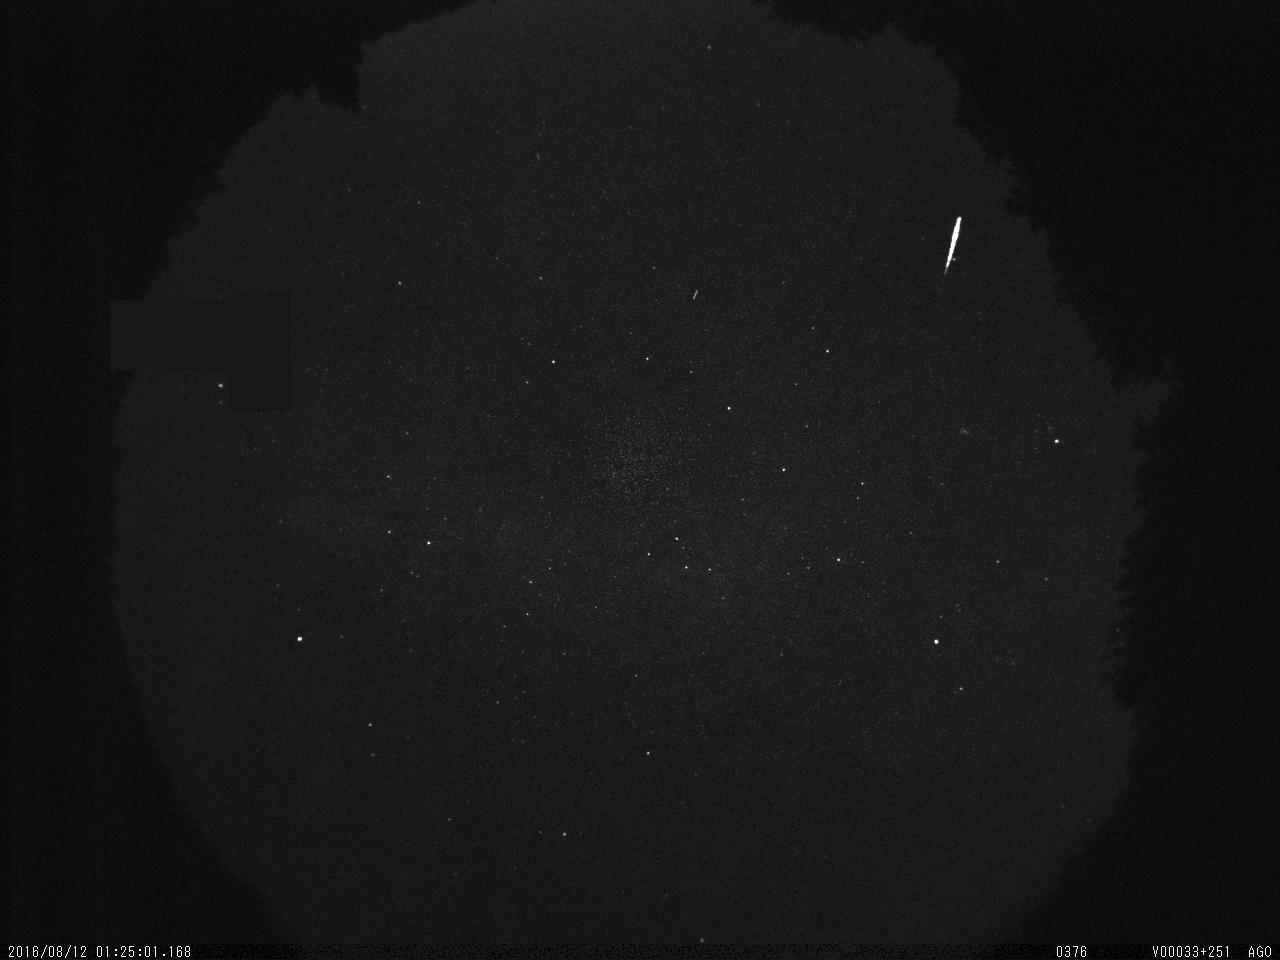Meteor: (934, 209, 970, 278)
